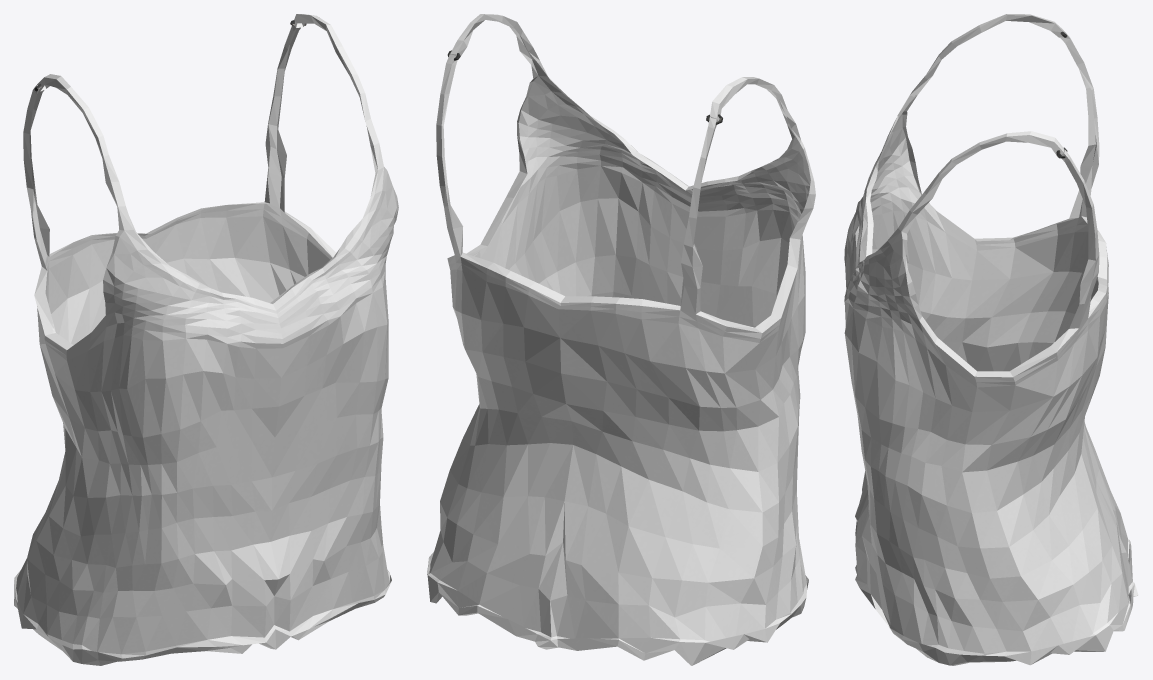
The model's file is mhw_punkduck_v_neck_top.glb.
3 views of the same model, side by side, from view 1: azimuth 30°, elevation 25°; view 2: azimuth 150°, elevation 25°; view 3: azimuth 270°, elevation 25° (orthographic). The views are drawn at different scales.
Visible parts, largest first — view 1: mhw_punkduck_v_neck_top; view 2: mhw_punkduck_v_neck_top; view 3: mhw_punkduck_v_neck_top.
Part boxes in pixels (x1,y1,x2,y2): mhw_punkduck_v_neck_top: (14, 14, 398, 665); mhw_punkduck_v_neck_top: (427, 14, 815, 665); mhw_punkduck_v_neck_top: (844, 14, 1138, 665).
Bounding box in the file's own units: 0.3645 × 0.581 × 0.2964.
1 material, 1 textured.
